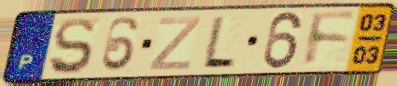6: (260, 11, 303, 71), (99, 15, 142, 75)
F: (303, 10, 360, 70)
L: (198, 15, 238, 70)
S: (47, 16, 97, 77)
Z: (146, 15, 203, 72)
